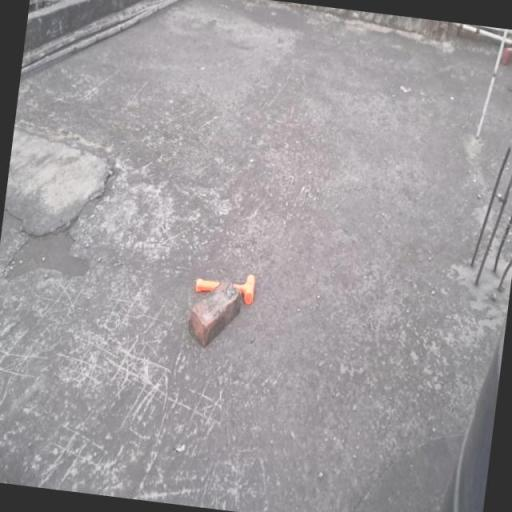mallet: (194, 268, 256, 305)
